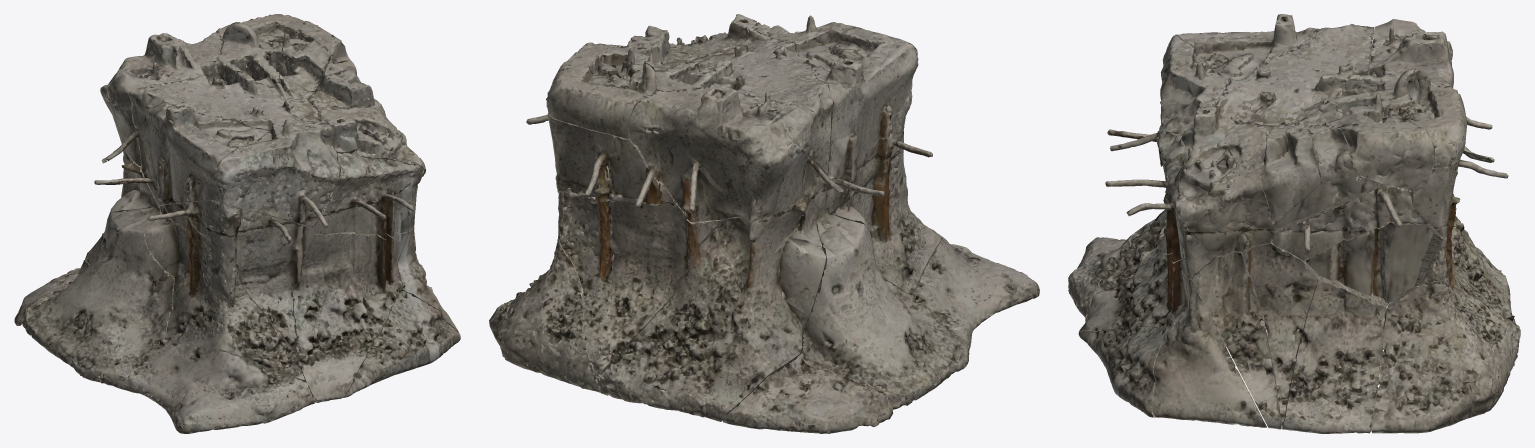
File: fortress-cell.glb
The picture shows the model from 3 angles, left to right: view 1: azimuth 30°, elevation 25°; view 2: azimuth 150°, elevation 25°; view 3: azimuth 270°, elevation 25°; orthographic projection. The views are drawn at different scales.
Parts seen in each view (by area): view 1: texture_mapping_cell.014, texture_mapping_cell.016, texture_mapping_cell.019, texture_mapping_cell.036, texture_mapping_cell.015, texture_mapping_cell.003, texture_mapping_cell.011, texture_mapping_cell.028, texture_mapping_cell.010, texture_mapping_cell.026, texture_mapping_cell.004, texture_mapping_cell.001 (+9 smaller); view 2: texture_mapping_cell.017, texture_mapping_cell.026, texture_mapping_cell.014, texture_mapping_cell.002, texture_mapping_cell.011, texture_mapping_cell.024, texture_mapping_cell.007, texture_mapping_cell.028, texture_mapping_cell.019, texture_mapping_cell.036, texture_mapping_cell.021, texture_mapping_cell.012 (+7 smaller); view 3: texture_mapping_cell.024, texture_mapping_cell.013, texture_mapping_cell.001, texture_mapping_cell.028, texture_mapping_cell.020, texture_mapping_cell, texture_mapping_cell.018, texture_mapping_cell.027, texture_mapping_cell.016, texture_mapping_cell.005, texture_mapping_cell.025, texture_mapping_cell.015 (+16 smaller).
Part boxes in pixels (box(x1,y1,x2,y2)): texture_mapping_cell.014: box(22, 199, 188, 382); texture_mapping_cell.016: box(291, 232, 407, 402); texture_mapping_cell.019: box(101, 339, 315, 433); texture_mapping_cell.036: box(145, 205, 304, 379); texture_mapping_cell.015: box(203, 120, 340, 230); texture_mapping_cell.003: box(159, 200, 315, 350); texture_mapping_cell.011: box(94, 101, 268, 205); texture_mapping_cell.028: box(107, 71, 326, 205); texture_mapping_cell.010: box(312, 150, 424, 239); texture_mapping_cell.026: box(100, 32, 223, 166); texture_mapping_cell.004: box(342, 291, 460, 397); texture_mapping_cell.001: box(318, 107, 425, 174); texture_mapping_cell.017: box(599, 197, 825, 421); texture_mapping_cell.026: box(629, 83, 843, 222); texture_mapping_cell.014: box(799, 208, 969, 409); texture_mapping_cell.002: box(557, 190, 724, 378); texture_mapping_cell.011: box(798, 41, 917, 208); texture_mapping_cell.024: box(489, 239, 600, 392); texture_mapping_cell.007: box(722, 354, 892, 433); texture_mapping_cell.028: box(693, 27, 841, 209); texture_mapping_cell.019: box(911, 236, 1039, 351); texture_mapping_cell.036: box(831, 137, 940, 294); texture_mapping_cell.021: box(547, 112, 674, 204); texture_mapping_cell.012: box(546, 63, 657, 138); texture_mapping_cell.024: box(1372, 282, 1518, 433); texture_mapping_cell.013: box(1282, 278, 1386, 433); texture_mapping_cell.001: box(1176, 106, 1274, 256); texture_mapping_cell.028: box(1213, 24, 1373, 129); texture_mapping_cell.020: box(1152, 278, 1266, 427); texture_mapping_cell: box(1303, 205, 1441, 306); texture_mapping_cell.018: box(1191, 251, 1281, 429); texture_mapping_cell.027: box(1242, 239, 1317, 422); texture_mapping_cell.016: box(1079, 248, 1264, 346); texture_mapping_cell.005: box(1341, 121, 1433, 189); texture_mapping_cell.025: box(1272, 184, 1412, 260); texture_mapping_cell.015: box(1110, 35, 1230, 166).
Bounding box in the file's own units: 0.9991 × 0.6891 × 0.9705.
Materials: 1 (1 with a texture image).
